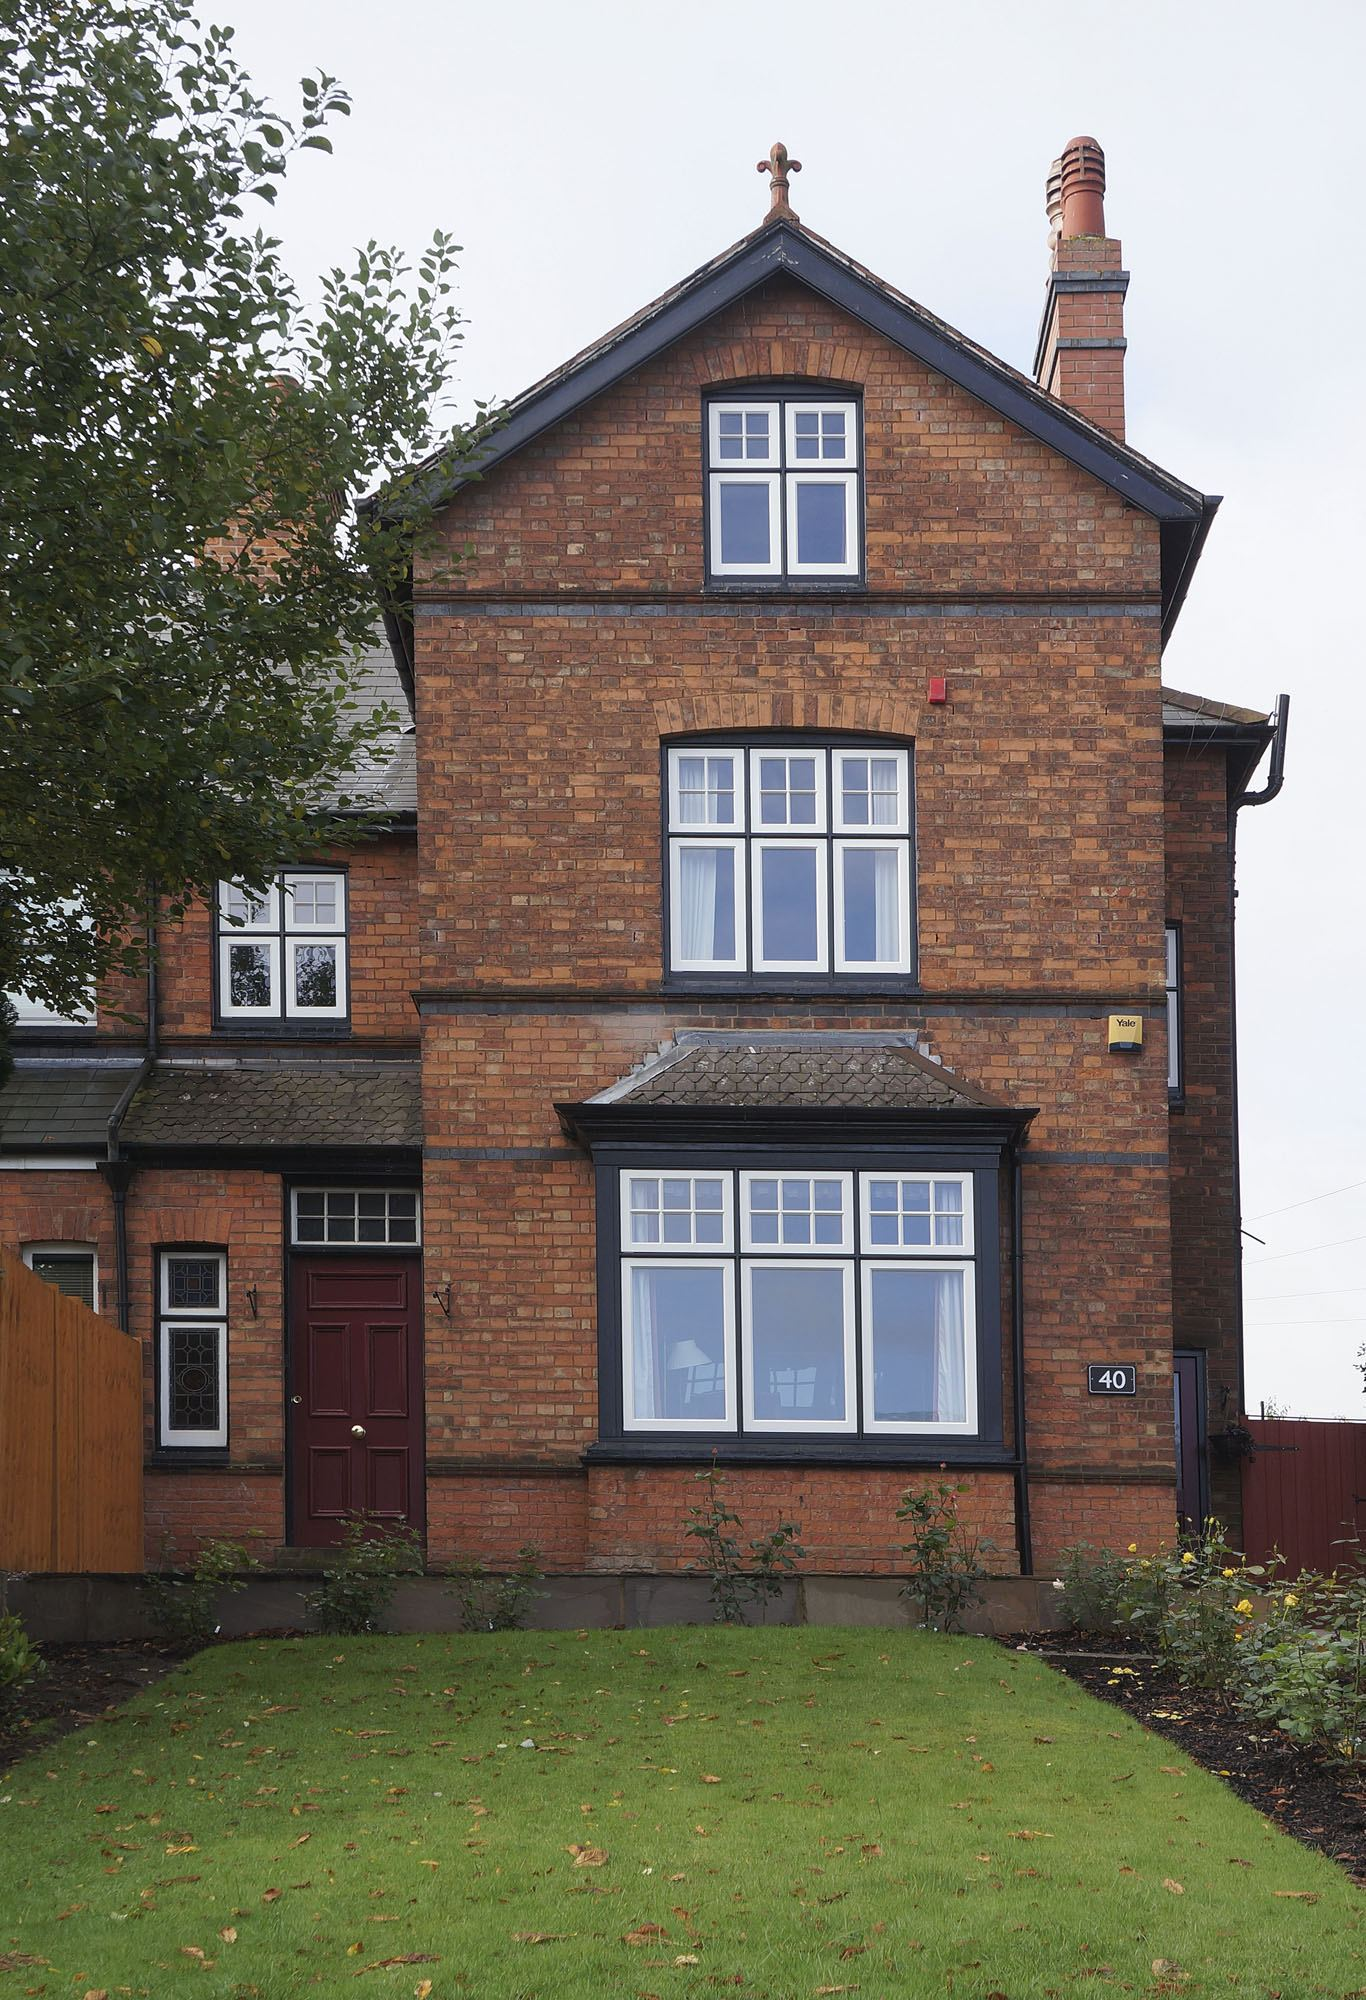B-Window: (541, 1036, 1045, 1482), (650, 710, 931, 991), (696, 377, 878, 591), (146, 1236, 242, 1464)
Door: (278, 1182, 432, 1578)
